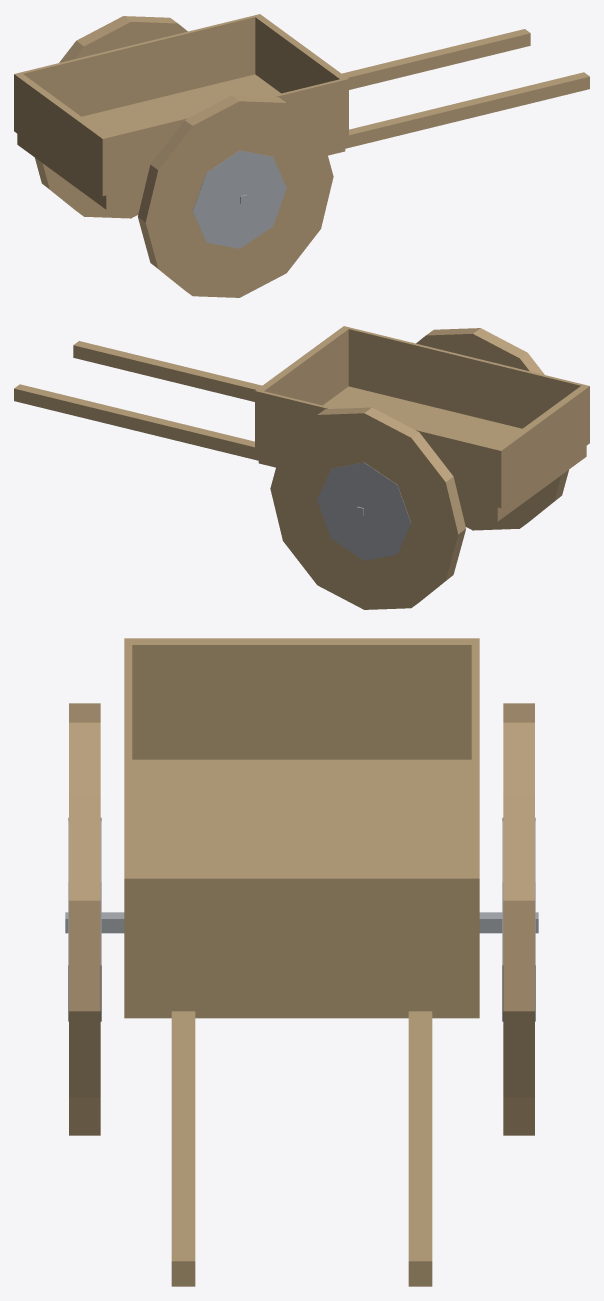
File: dm_woodcart.glb
3 renders of one model, top to bottom at view 1: azimuth 30°, elevation 25°; view 2: azimuth 150°, elevation 25°; view 3: azimuth 270°, elevation 25°, orthographic. The views are drawn at different scales.
Parts seen in each view (by area): view 1: Cart; view 2: Cart; view 3: Cart.
Part boxes in pixels (bbox=[...]): Cart: bbox=[14, 14, 589, 297]; Cart: bbox=[14, 326, 589, 609]; Cart: bbox=[65, 638, 538, 1286].
Bounding box in the file's own units: 2.92 × 1.1 × 1.2.
